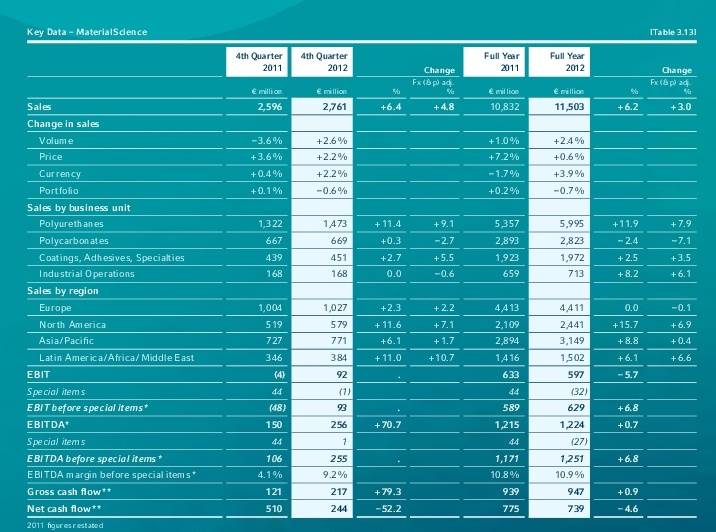table: (0, 0, 716, 532)
